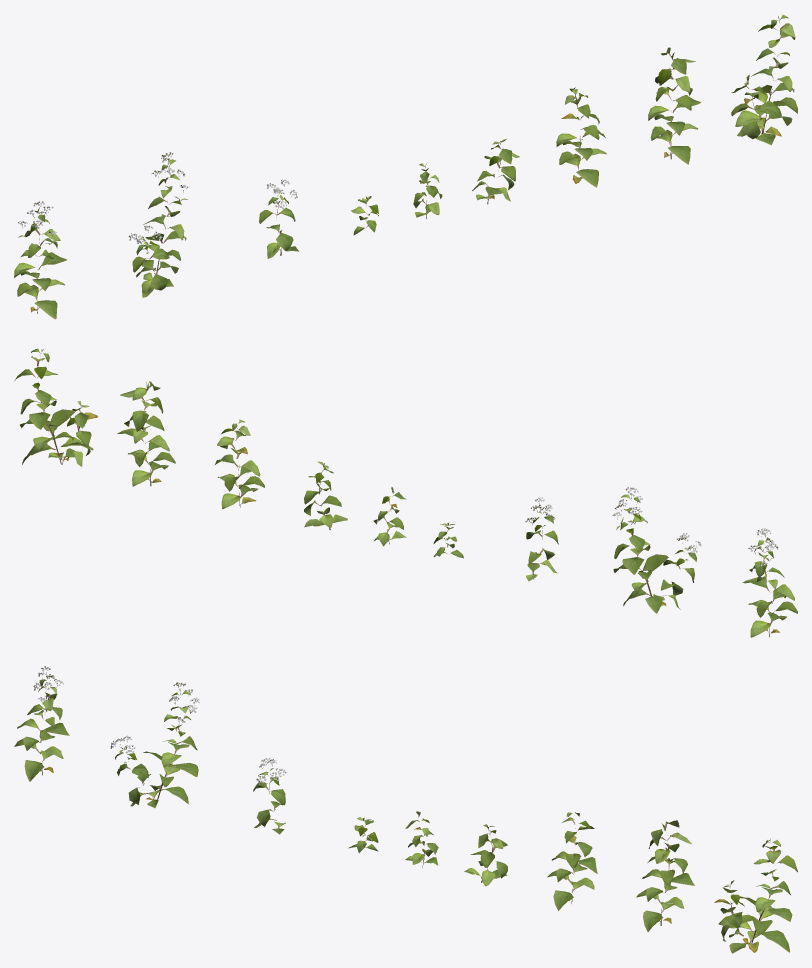
The model's file is shrub_01.glb.
The picture shows the model from 3 angles, top to bottom: view 1: azimuth 30°, elevation 25°; view 2: azimuth 150°, elevation 25°; view 3: azimuth 330°, elevation 25°; orthographic projection. The views are drawn at different scales.
Visible parts, largest first — view 1: shrub_01_a; view 2: shrub_01_a; view 3: shrub_01_a.
Part boxes in pixels (left/top/right/bottom): shrub_01_a: left=14, top=14, right=797, bottom=319; shrub_01_a: left=14, top=348, right=797, bottom=637; shrub_01_a: left=14, top=666, right=797, bottom=953.
Size of the model in its own units: 2.59 by 0.3956 by 0.2181.
1 material, 1 textured.
